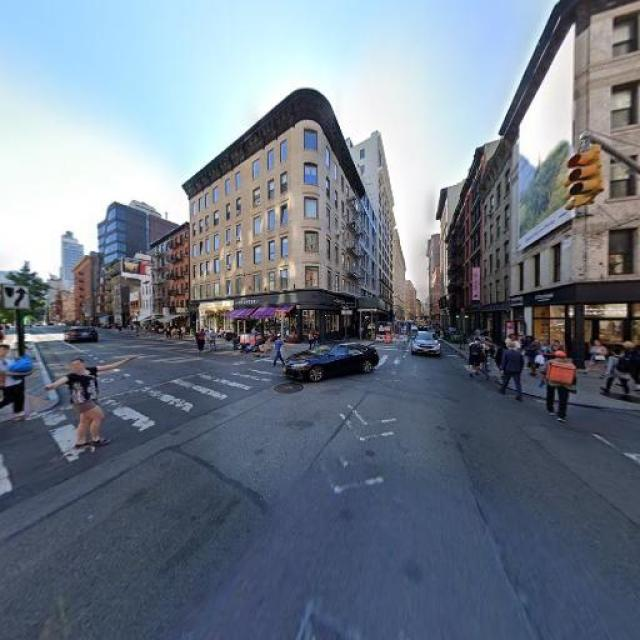Building: (514, 1, 640, 367), (194, 88, 360, 344)
